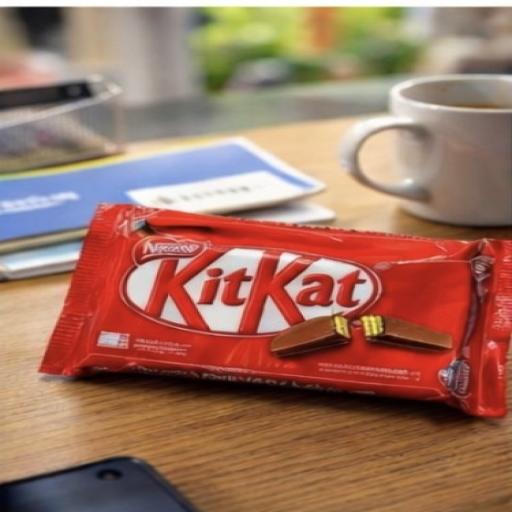kitkat: (56, 179, 512, 470)
